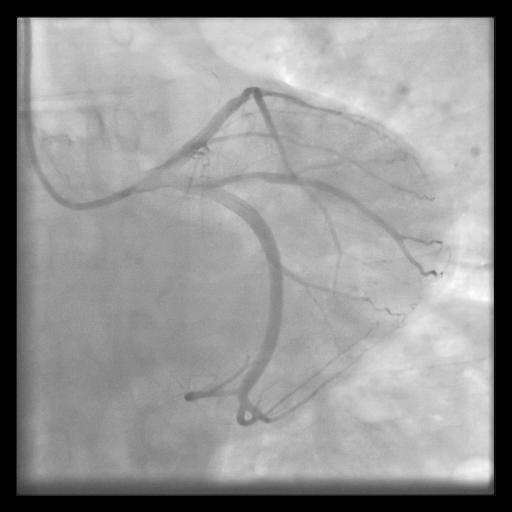Stenosis: (220, 169, 269, 186)
